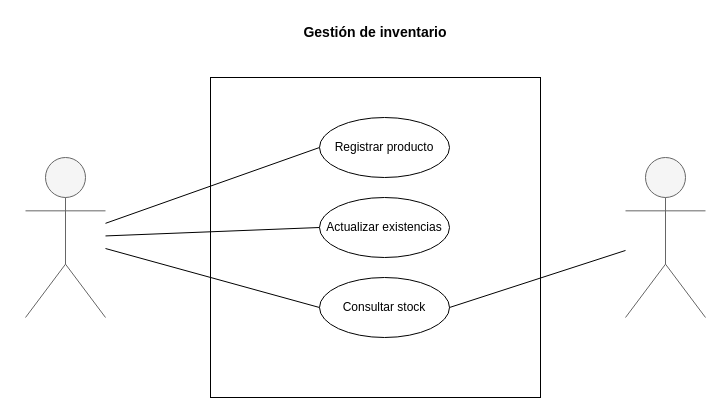
Image size: 723x415. Some labels were removed from this diagram. The centre of each missing label's shape, as x and y in pixels:
"Administrador" belongs at point (65, 237).
"Veterinario" belongs at point (665, 237).
